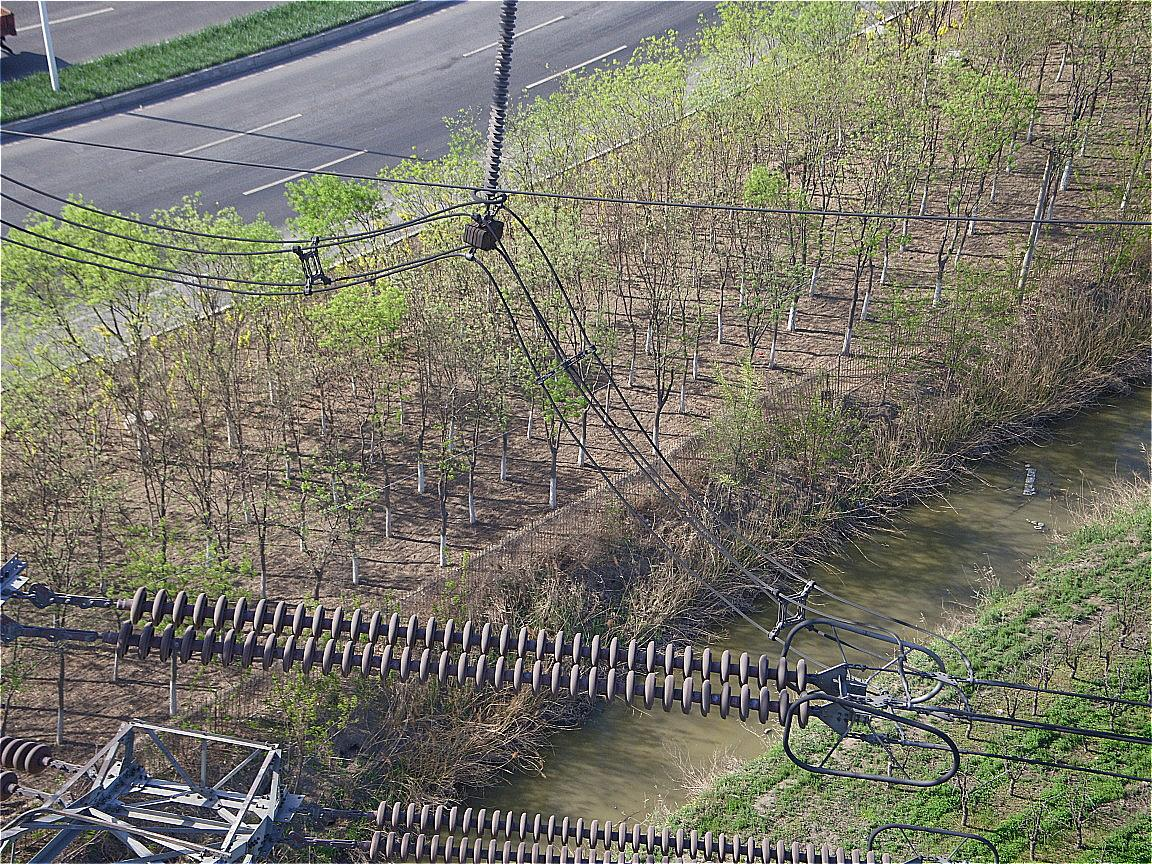insultor1: (116, 584, 813, 731), (367, 796, 887, 864)
insultor2: (483, 2, 525, 196)
